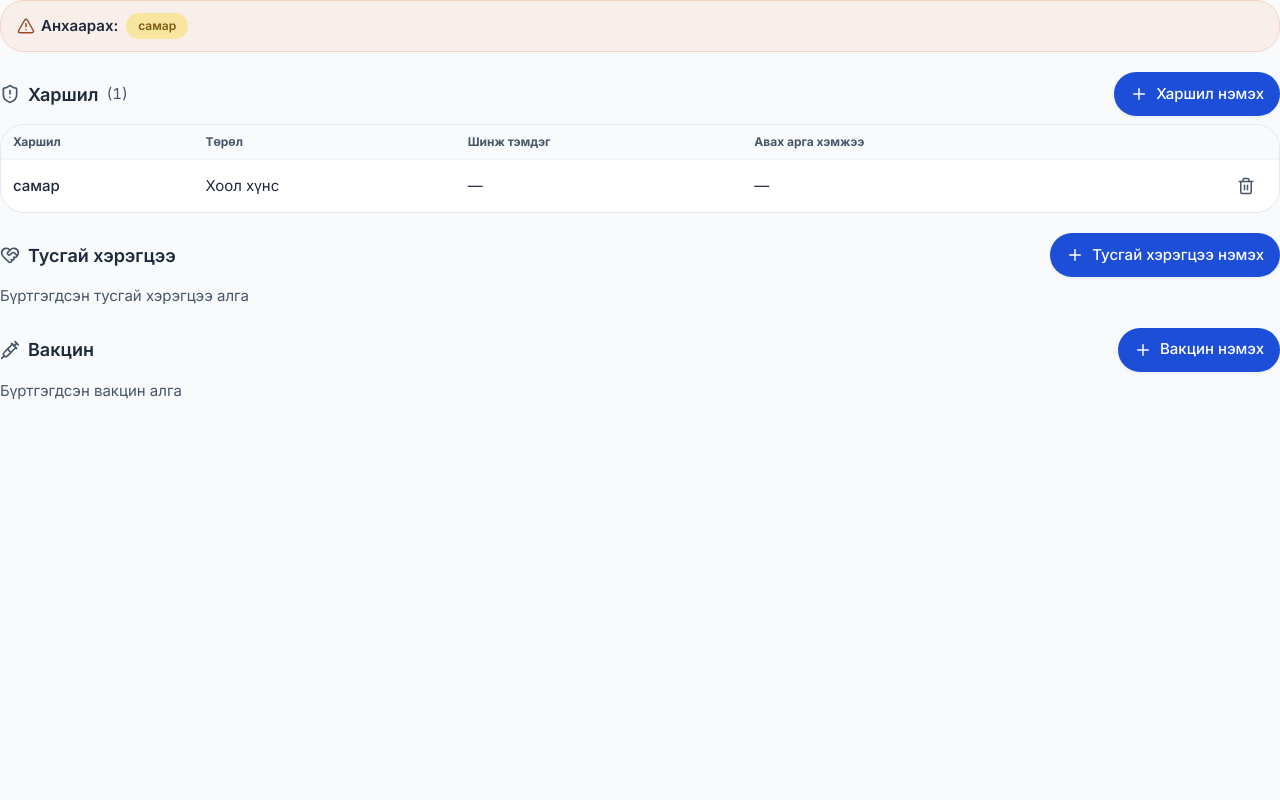
устгах — харшил › refetches the health record and confirms with a toast
Click the button named "самар — устгах".
click(1246, 186)  # box [1221,164,1271,208]
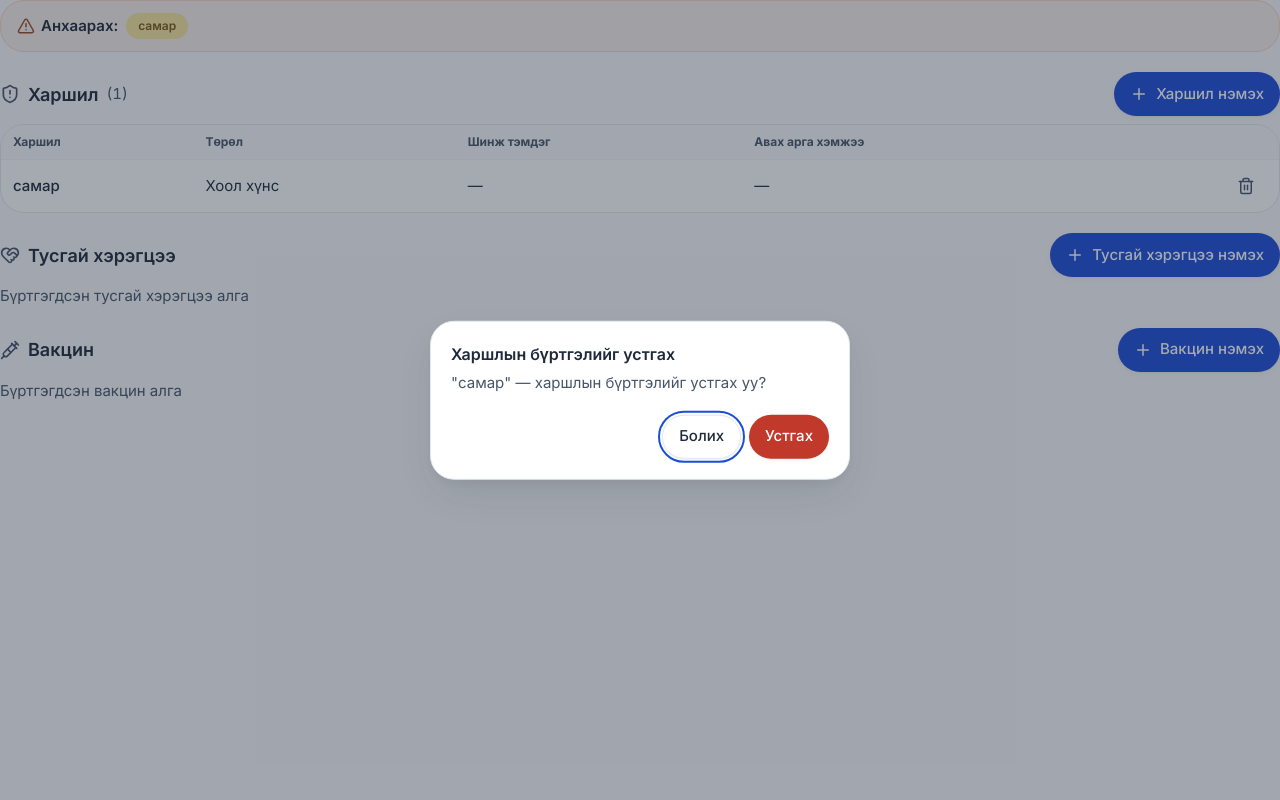
Click the button "Устгах".
click(789, 436)  # box [749,414,829,458]
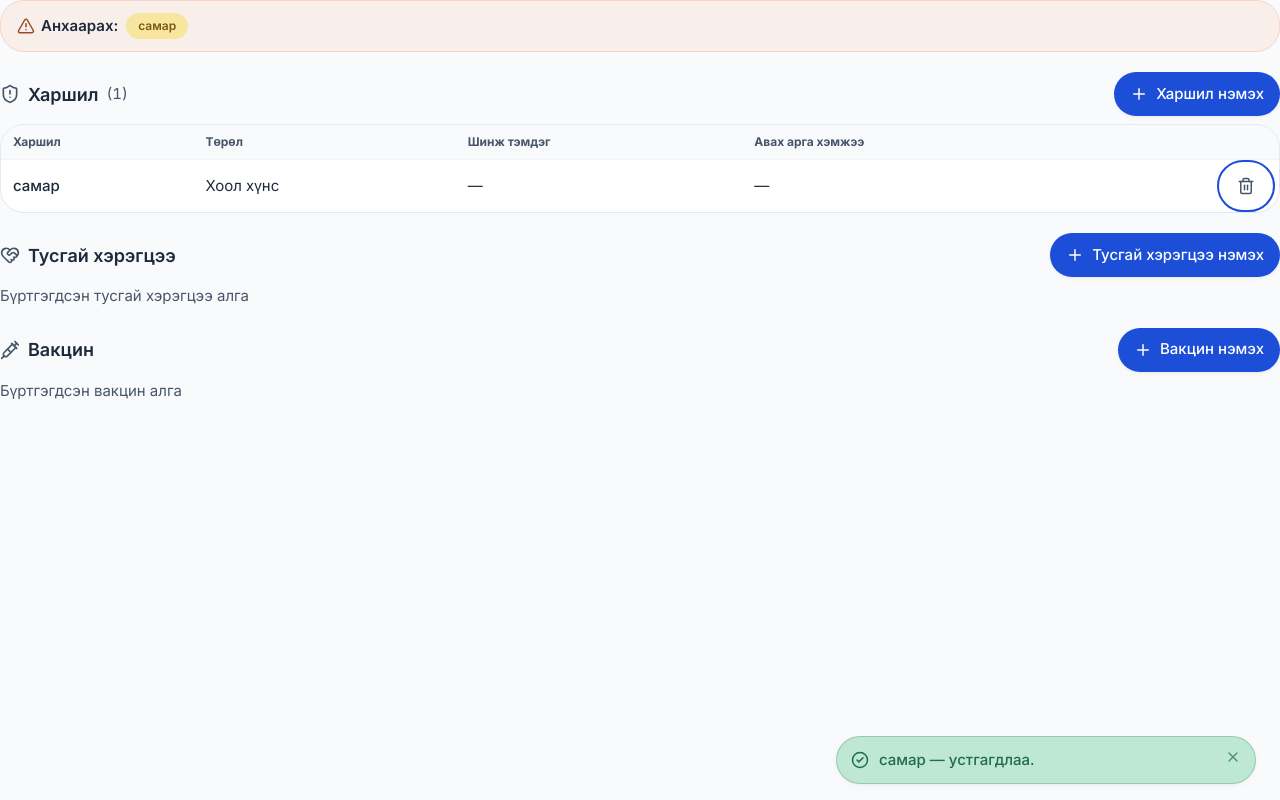
Expected: the text "самар — устгагдлаа." is shown, [879,750,1034,768]
